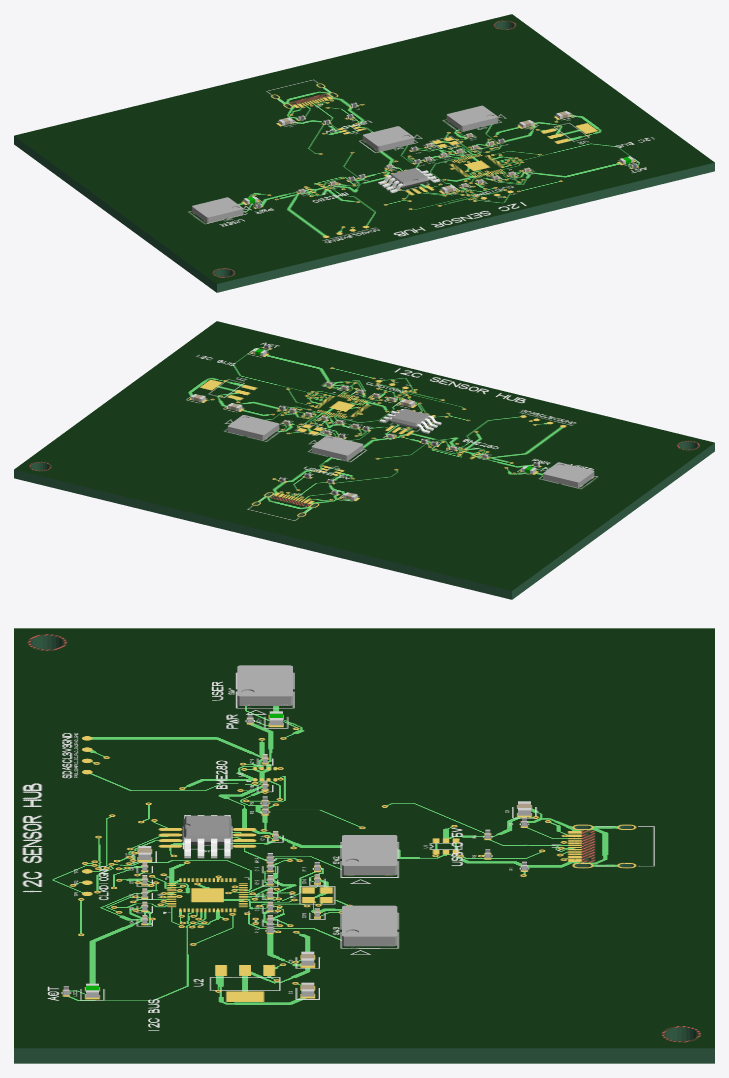
The picture shows the model from 3 angles, top to bottom: view 1: azimuth 30°, elevation 25°; view 2: azimuth 150°, elevation 25°; view 3: azimuth 270°, elevation 25°; orthographic projection. The views are drawn at different scales.
Visible parts, largest first — view 1: Box0, SW2, SW3, SW1, U4; view 2: Box0, SW2, SW3, SW1, U4; view 3: Box0, SW3, SW2, SW1, U4.
Boxes of the visible parts, x1,y1,x2,y2 form: Box0: (14,14,714,292); SW2: (362,126,414,151); SW3: (446,105,498,131); SW1: (192,197,243,222); U4: (378,168,440,193); Box0: (14,321,714,599); SW2: (311,435,363,460); SW3: (227,415,279,440); SW1: (543,462,594,487); U4: (379,408,441,433); Box0: (14,628,714,1063); SW3: (342,905,397,946); SW2: (342,835,397,875); SW1: (237,665,292,705); U4: (183,815,231,858).
Bounding box in the file's own units: 95 × 2.88 × 67.
Materials: 10 (2 with a texture image).
